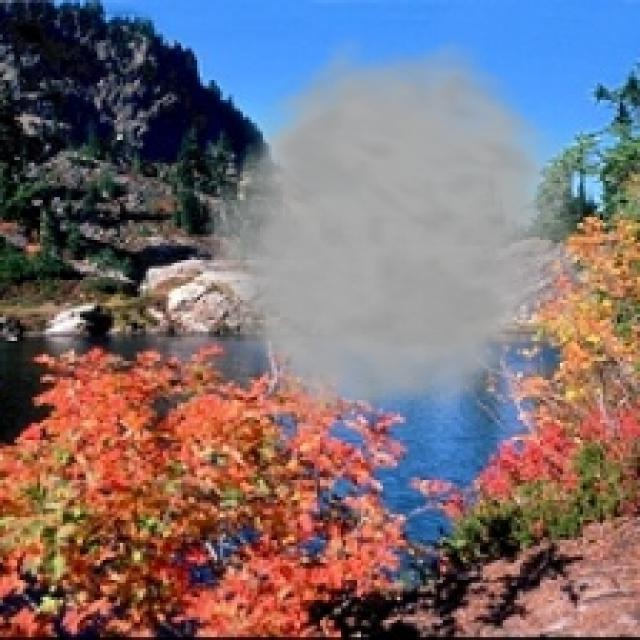Smoke: (192, 37, 594, 437)
